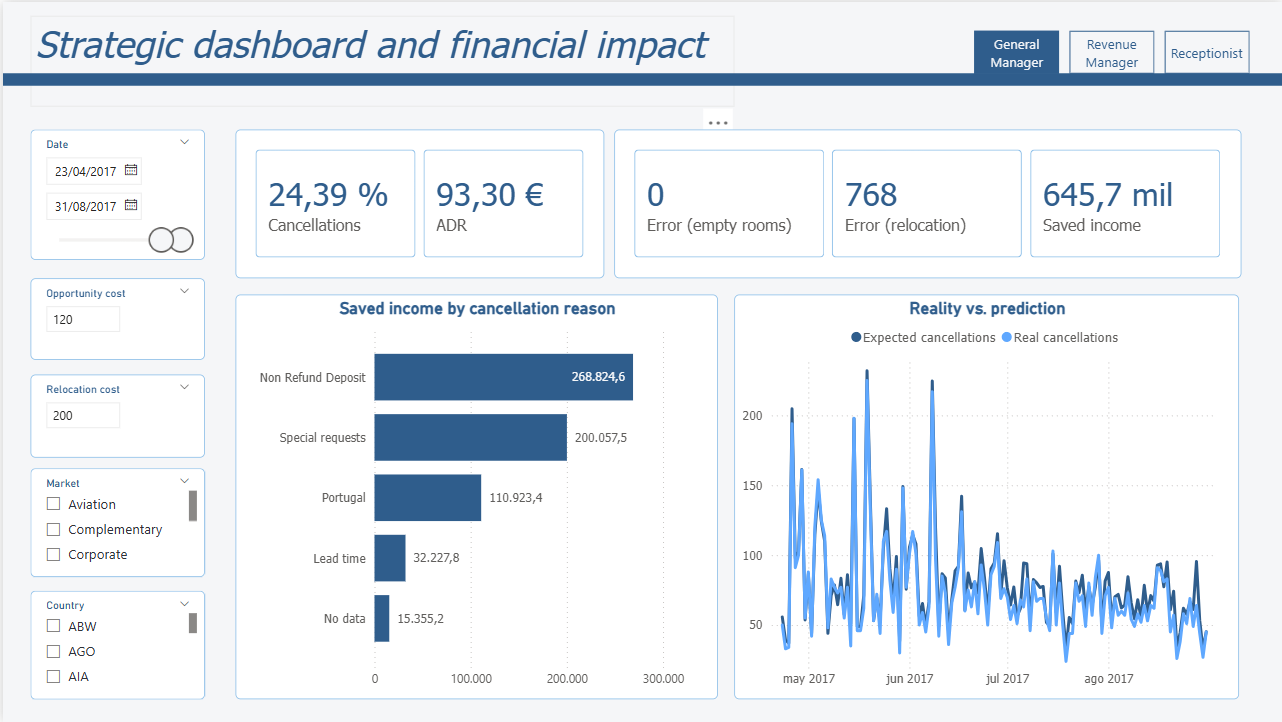

This screenshot's page, from the dashboard's own definition file:
{"tool":"powerbi","page":{"name":"General Manager","canvas":[1280,720],"ordinal":1},"visuals":[{"type":"cardVisual","fields":{"Data":["Mesures.%_cancelacio_passat","Mesures.ADR_mitja"]},"box":[232.9,127.1,368.6,148.6],"z":0},{"type":"slicer","fields":{"Values":["public dim_calendar.arrival_date"]},"box":[27.1,127.1,174.3,130],"z":1000},{"type":"slicer","fields":{"Values":["public dim_client.country"]},"box":[27.1,588.6,174.3,108.6],"z":2000},{"type":"textbox","box":[27.5,13.8,703.8,91.2],"z":3000},{"type":"pageNavigator","box":[971.2,28.8,275,43.8],"z":4000},{"type":"lineChart","title":"Reality vs. prediction","fields":{"Category":["public dim_calendar.arrival_date"],"Y":["Mesures.Cancel_esperades","Mesures.Cancels_reals"]},"box":[731.2,292.5,505,405],"z":5000},{"type":"cardVisual","fields":{"Data":["Mesures.Error_buit","Mesures.Error_reub","Mesures.Ingres_salvat"]},"box":[611.4,127.1,627.1,148.6],"z":6000},{"type":"barChart","title":"Saved income by cancellation reason","fields":{"Category":["public dim_reason.name_reason"],"Y":["Mesures.Ingres_salvat"]},"box":[232.5,292.5,482.5,405],"z":7000},{"type":"slicer","fields":{"Values":["Cost_oportunitat.Cost_oportunitat"]},"box":[27.1,275.7,174.3,81.4],"z":8000},{"type":"slicer","fields":{"Values":["Cost_reubicació.Cost_reubicació"]},"box":[27.1,372.9,174.3,82.9],"z":9000},{"type":"slicer","fields":{"Values":["public dim_channel.market_segment"]},"box":[27.1,465.7,174.3,108.6],"z":10000},{"type":"shape","box":[0,71.2,1280,12.5],"z":11000}]}

Visuals, with their boxes in screenshot pixels (x1, y1, x2, y2), scaled from the page's 1280x720 canvas onto the 1282x722 screenshot:
cardVisual - Mesures.%_cancelacio_passat x Mesures.ADR_mitja: box=[233, 127, 602, 276]
slicer - public dim_calendar.arrival_date: box=[27, 127, 202, 258]
slicer - public dim_client.country: box=[27, 590, 202, 699]
textbox: box=[28, 14, 732, 105]
pageNavigator: box=[973, 29, 1248, 73]
"Reality vs. prediction" lineChart: box=[732, 293, 1238, 699]
cardVisual - Mesures.Error_buit x Mesures.Error_reub: box=[612, 127, 1240, 276]
"Saved income by cancellation reason" barChart: box=[233, 293, 716, 699]
slicer - Cost_oportunitat.Cost_oportunitat: box=[27, 276, 202, 358]
slicer - Cost_reubicació.Cost_reubicació: box=[27, 374, 202, 457]
slicer - public dim_channel.market_segment: box=[27, 467, 202, 576]
shape: box=[0, 71, 1281, 84]
